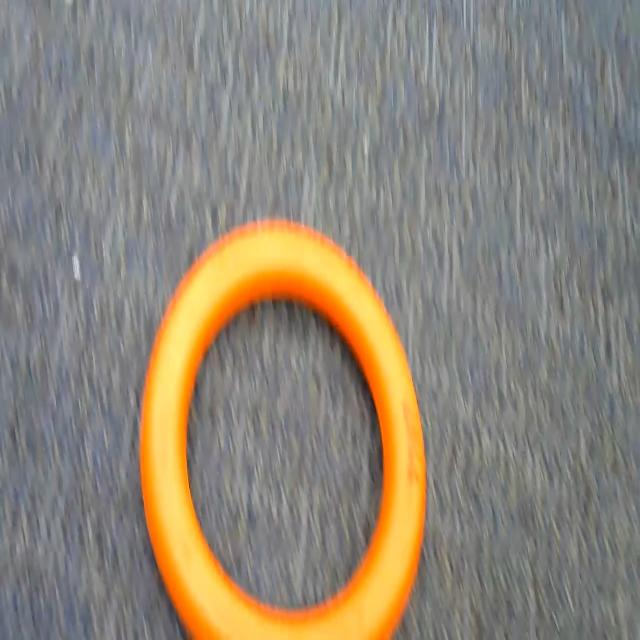note: (134, 208, 428, 640)
